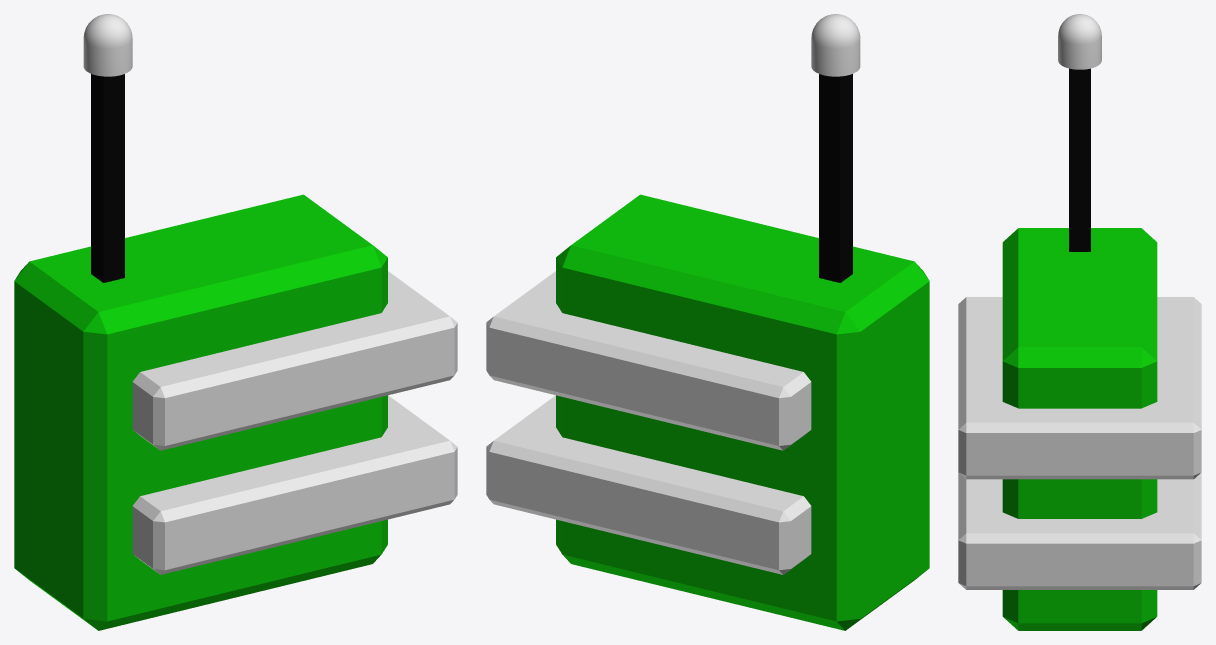
Rendered from beacon.fbx.
3 renders of one model, left to right at view 1: azimuth 30°, elevation 25°; view 2: azimuth 150°, elevation 25°; view 3: azimuth 270°, elevation 25°, orthographic. The views are drawn at different scales.
Visible parts, largest first — view 1: Cube.004, Cube.006, Cube.005, Cube.007, Sphere; view 2: Cube.004, Cube.006, Cube.005, Cube.007, Sphere; view 3: Cube.004, Cube.006, Cube.005, Cube.007, Sphere.
Part boxes in pixels (x1,y1,x2,y2): Cube.004: (14, 194, 387, 630); Cube.006: (132, 271, 457, 450); Cube.005: (132, 395, 457, 574); Cube.007: (91, 74, 124, 282); Sphere: (83, 14, 132, 76); Cube.004: (556, 194, 929, 630); Cube.006: (486, 271, 811, 450); Cube.005: (486, 395, 811, 574); Cube.007: (819, 74, 852, 282); Sphere: (811, 14, 860, 76); Cube.004: (1002, 228, 1157, 630); Cube.006: (958, 297, 1201, 479); Cube.005: (958, 472, 1201, 589); Cube.007: (1069, 68, 1090, 251); Sphere: (1058, 14, 1101, 69).
Bounding box in the file's own units: 227 × 363 × 155.
